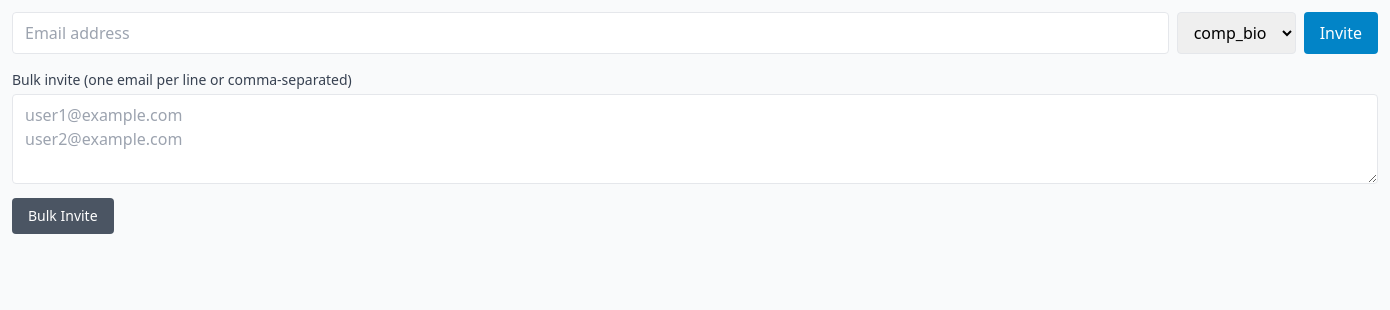
Test case: InviteForm › shows invited email in results list after successful invite
Type "alice@bioaf.org" into the field with placeholder "Email address" at (590, 33), box [12,12,1169,54]
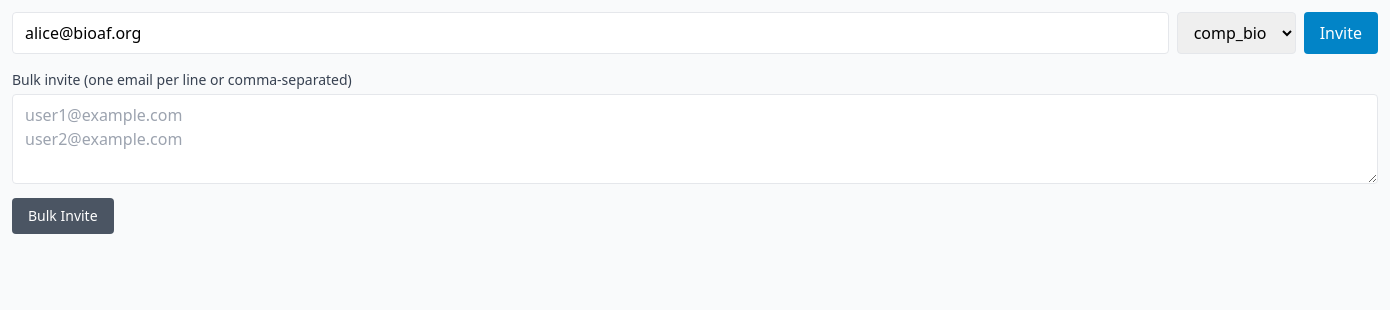
Click the button "Invite" at (1341, 33), box [1304,12,1378,54]
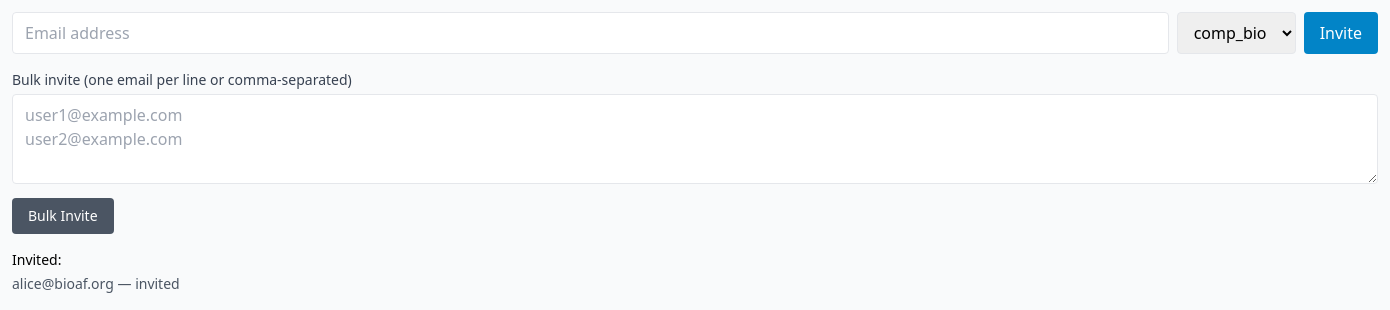
Now the text "alice@bioaf.org — invited" is shown, box [12,274,180,293]
